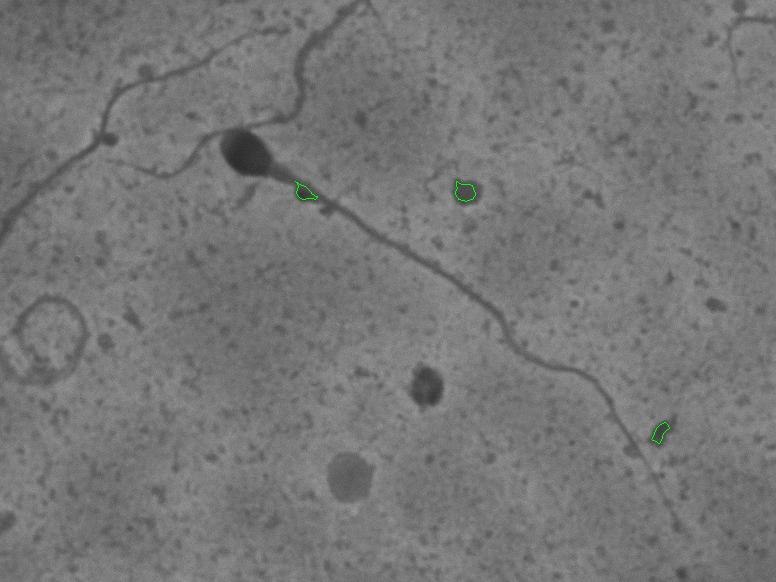Normal: (201, 111, 682, 535)
